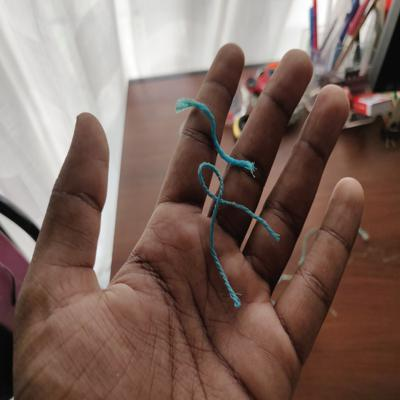thread: (194, 159, 289, 314), (172, 94, 261, 182)
